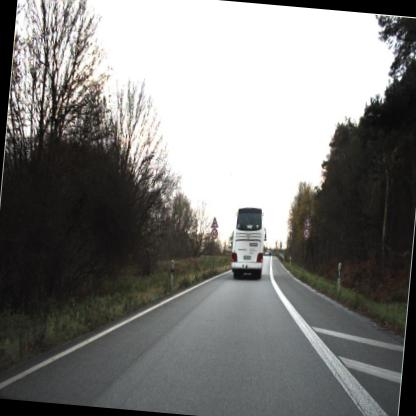danger: (209, 216, 219, 230), (303, 215, 312, 228)
prohibitory: (302, 228, 312, 240), (210, 229, 218, 240)
